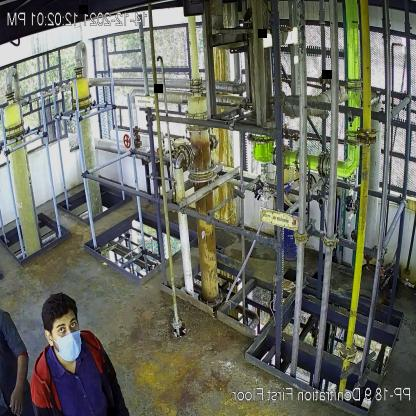no_goggles: (54, 319, 79, 337)
